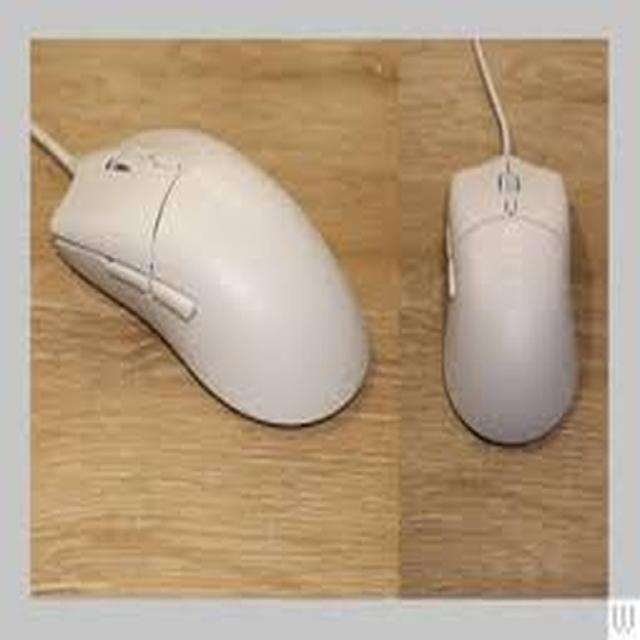mouse: (34, 100, 390, 418), (418, 108, 600, 452)
